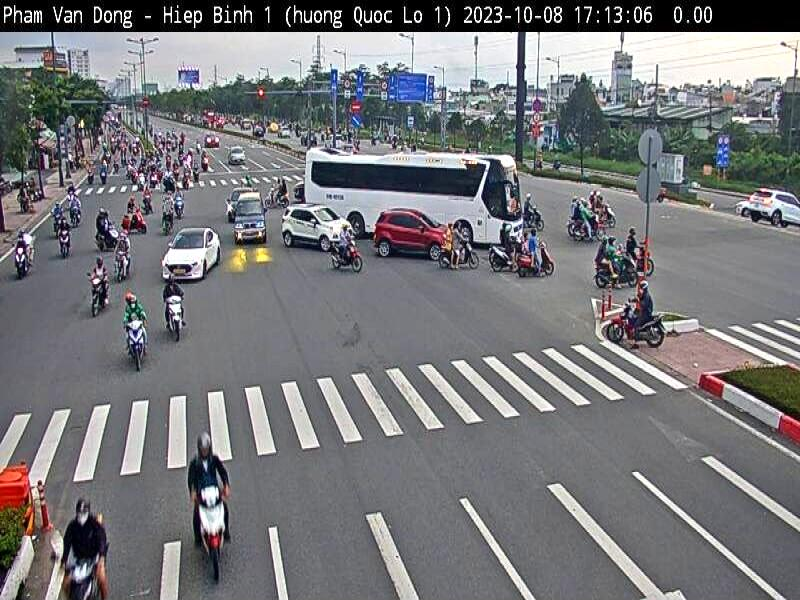bus: (299, 142, 527, 249)
car: (375, 207, 456, 266), (278, 197, 354, 254), (160, 222, 221, 285), (744, 180, 800, 231), (231, 192, 271, 245), (223, 185, 255, 218), (523, 223, 543, 270), (117, 226, 135, 268), (94, 206, 114, 240), (14, 226, 34, 259), (56, 210, 73, 236)
motorcycle: (187, 483, 233, 590), (49, 547, 107, 600), (605, 301, 671, 345), (516, 238, 563, 278), (122, 318, 150, 374), (590, 261, 644, 289), (439, 239, 479, 271), (330, 238, 364, 274), (86, 276, 110, 322), (164, 294, 184, 346), (617, 251, 658, 274), (490, 240, 522, 268), (114, 250, 133, 285)
